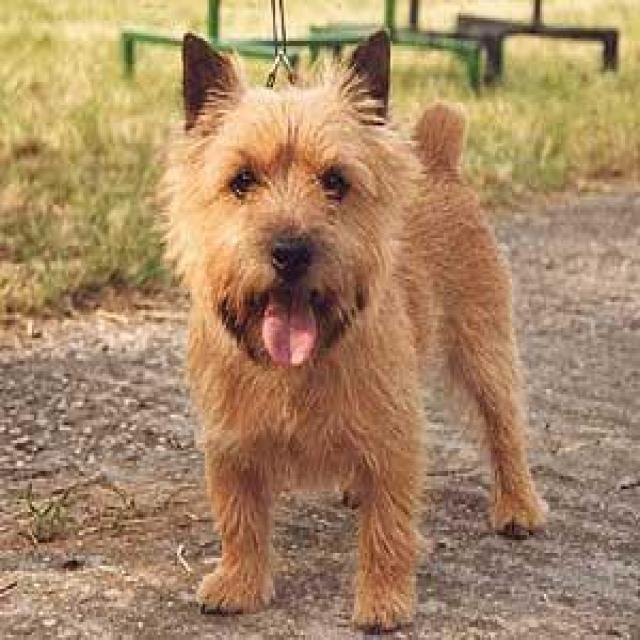adult_dog: (158, 21, 552, 631)
